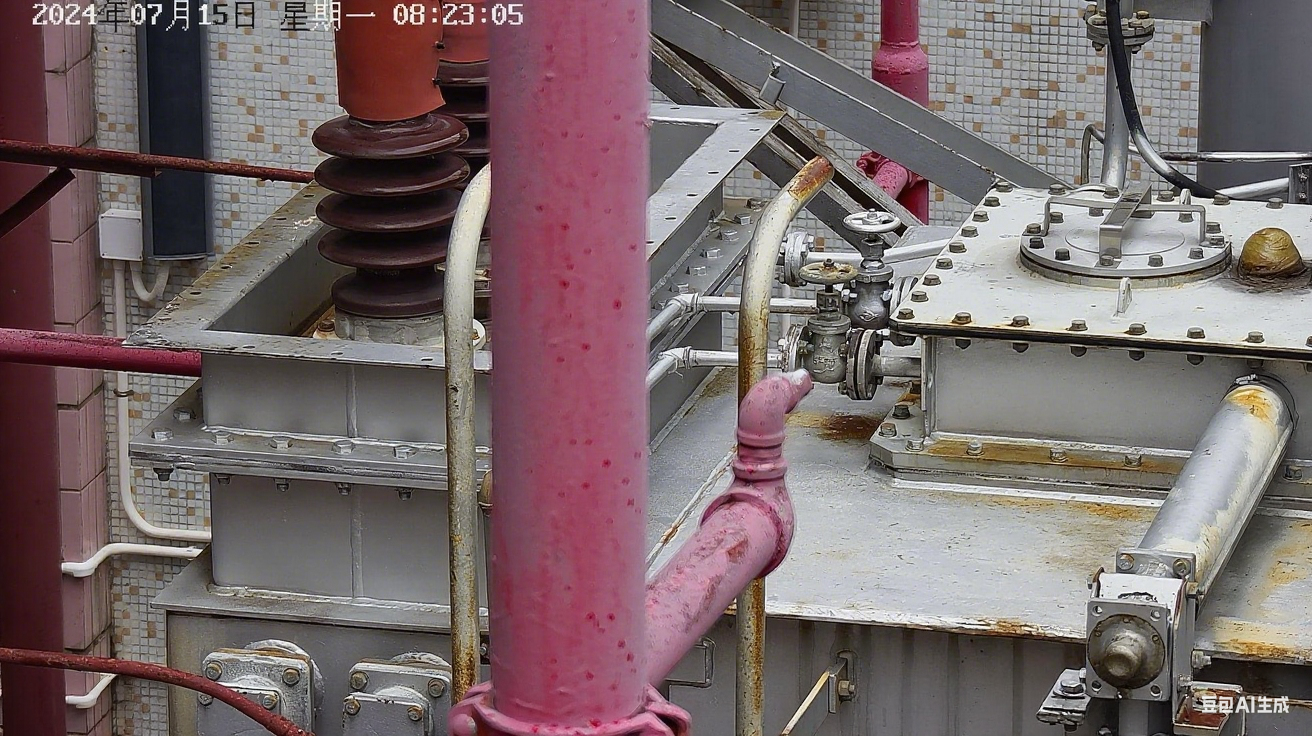HTX: (887, 483, 1164, 588), (156, 171, 328, 319), (1192, 512, 1311, 669), (445, 468, 494, 707), (920, 435, 1188, 475), (731, 575, 767, 736), (735, 302, 773, 427), (1219, 385, 1283, 445), (951, 608, 1058, 642), (779, 409, 882, 444), (1172, 684, 1239, 732), (680, 363, 736, 418), (784, 154, 834, 204), (210, 645, 311, 665), (881, 372, 922, 406), (1167, 578, 1199, 617), (655, 520, 679, 549), (312, 315, 334, 342), (754, 106, 784, 123), (818, 256, 840, 275), (406, 704, 422, 721), (345, 698, 361, 710), (210, 661, 220, 675), (266, 695, 276, 707)
